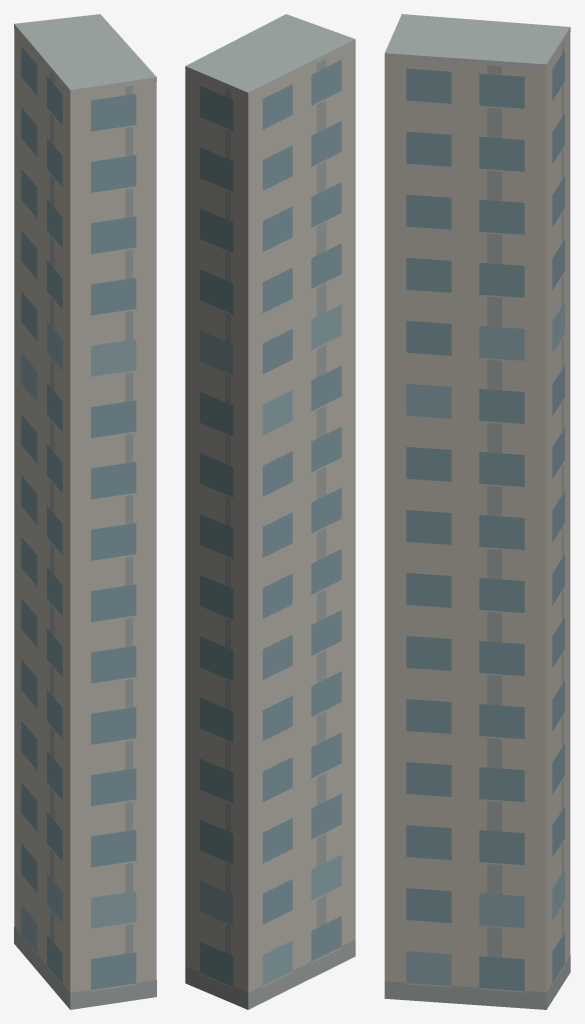
The model's file is survey-upis-32936752.glb.
3 renders of one model, left to right at view 1: azimuth 30°, elevation 25°; view 2: azimuth 150°, elevation 25°; view 3: azimuth 270°, elevation 25°, orthographic. The views are drawn at different scales.
Parts seen in each view (by area): view 1: survey-upis-32936752.tmp; view 2: survey-upis-32936752.tmp; view 3: survey-upis-32936752.tmp.
Boxes of the visible parts, bbox=[...] form: survey-upis-32936752.tmp: bbox=[14, 14, 156, 1009]; survey-upis-32936752.tmp: bbox=[185, 14, 355, 1009]; survey-upis-32936752.tmp: bbox=[384, 14, 570, 1009].
Size of the model in its own units: 5.24 by 45.75 by 8.16.
